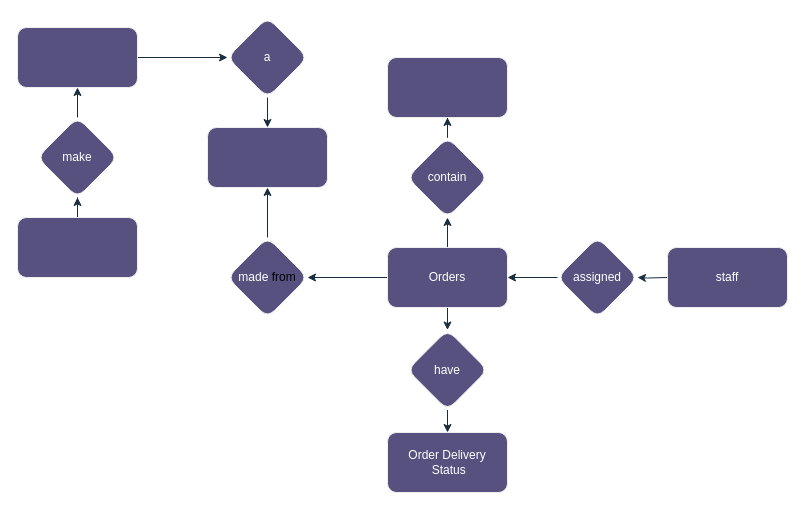
The diagram is 805 pixels wide and 510 high, and some of its shapes have lost their labels. The shapes that lost their labels are listed below. From the top down, each one's centre as x and y in pixels, then its label:
At pixel 77 57: "Booking".
At pixel 447 87: "menu".
At pixel 267 157: "Tables".
At pixel 77 247: "customers".
